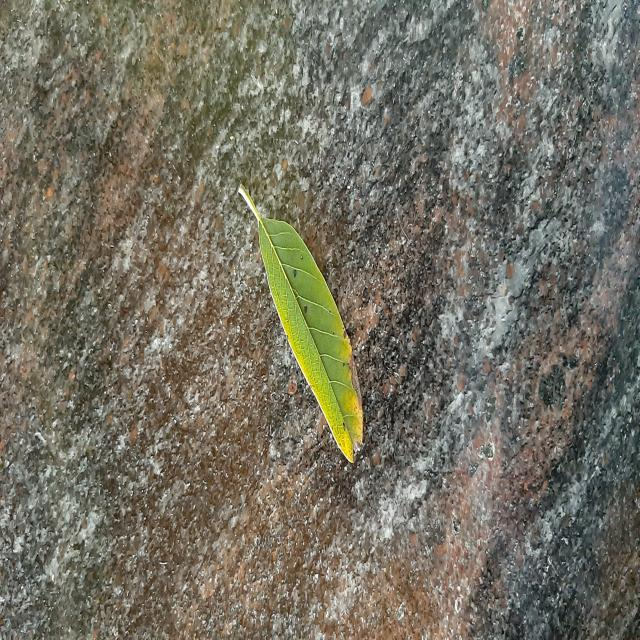leaf spot: (239, 187, 362, 461)
